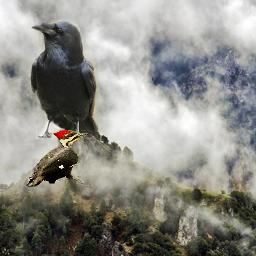Crow: (29, 20, 99, 139)
Woodpecker: (26, 130, 91, 187)
